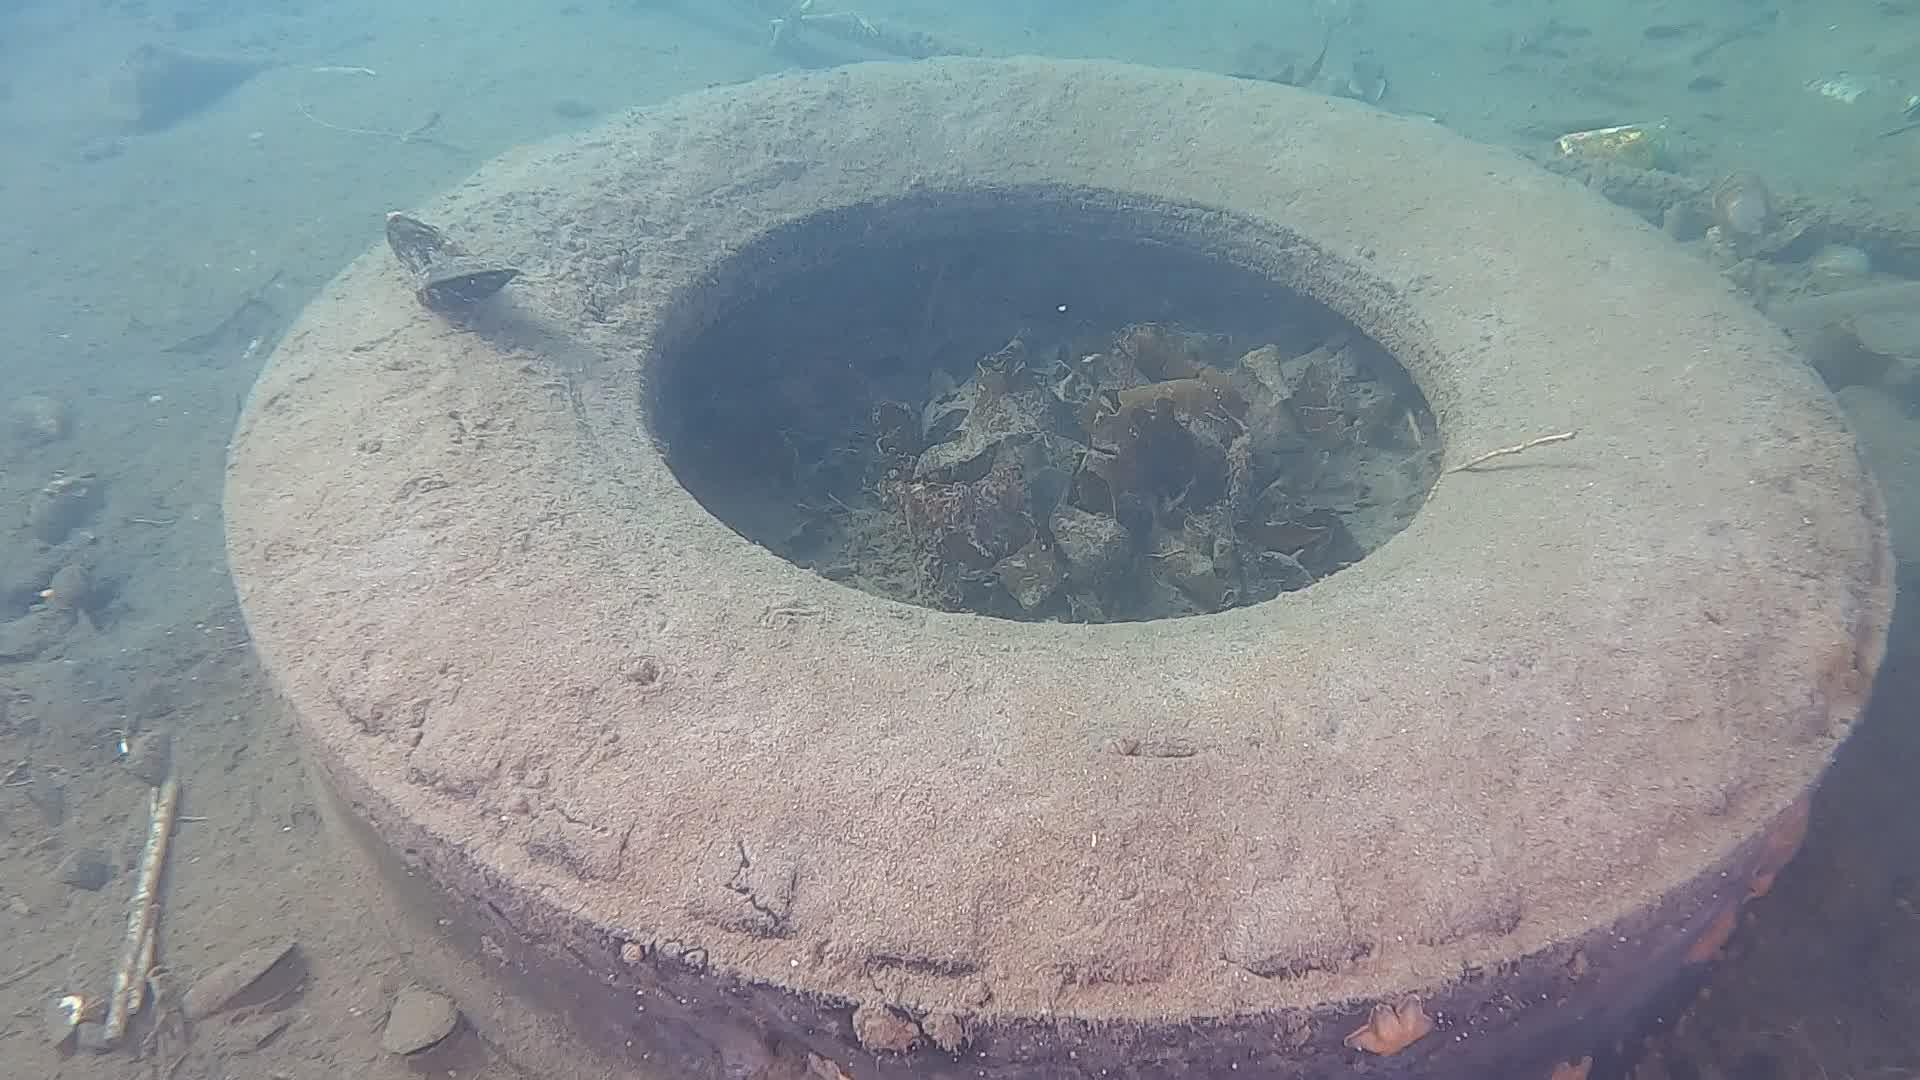tire: (215, 51, 1899, 1080)
